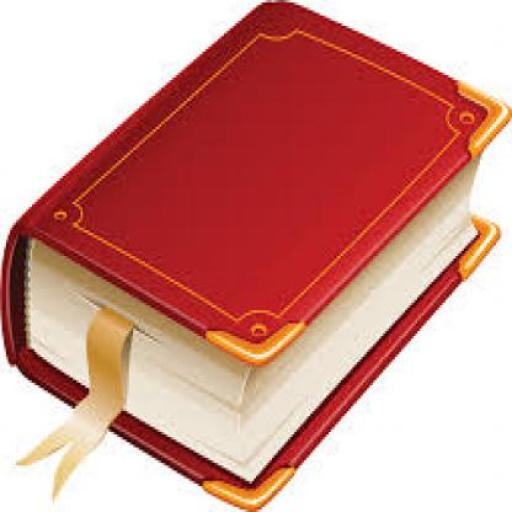paper: (0, 0, 511, 505)
